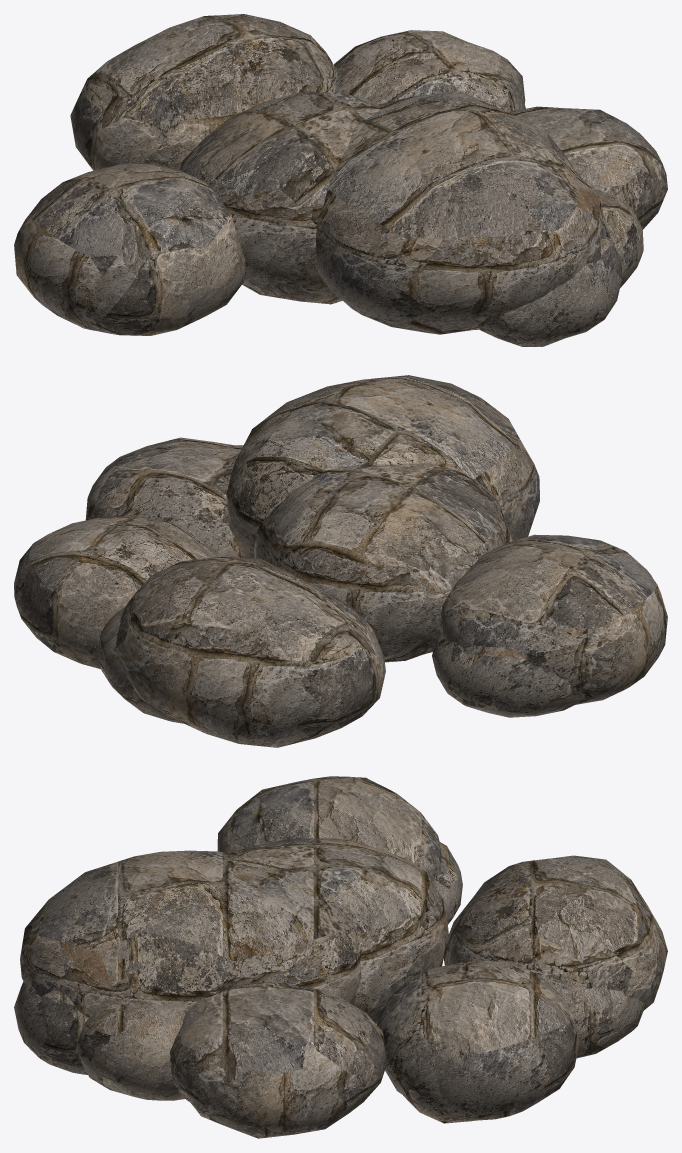
File: raw-ore-pile-v01.glb
3 views of the same model, one above another, from view 1: azimuth 30°, elevation 25°; view 2: azimuth 150°, elevation 25°; view 3: azimuth 270°, elevation 25° (orthographic).
Visible parts, largest first — view 1: raw-ore-pile; view 2: raw-ore-pile; view 3: raw-ore-pile.
Part boxes in pixels (left/top/right/bottom): raw-ore-pile: left=14, top=14, right=667, bottom=346; raw-ore-pile: left=14, top=375, right=667, bottom=747; raw-ore-pile: left=14, top=776, right=667, bottom=1138.
Bounding box in the file's own units: 1.41 × 0.4062 × 1.37.
1 material, 1 textured.
